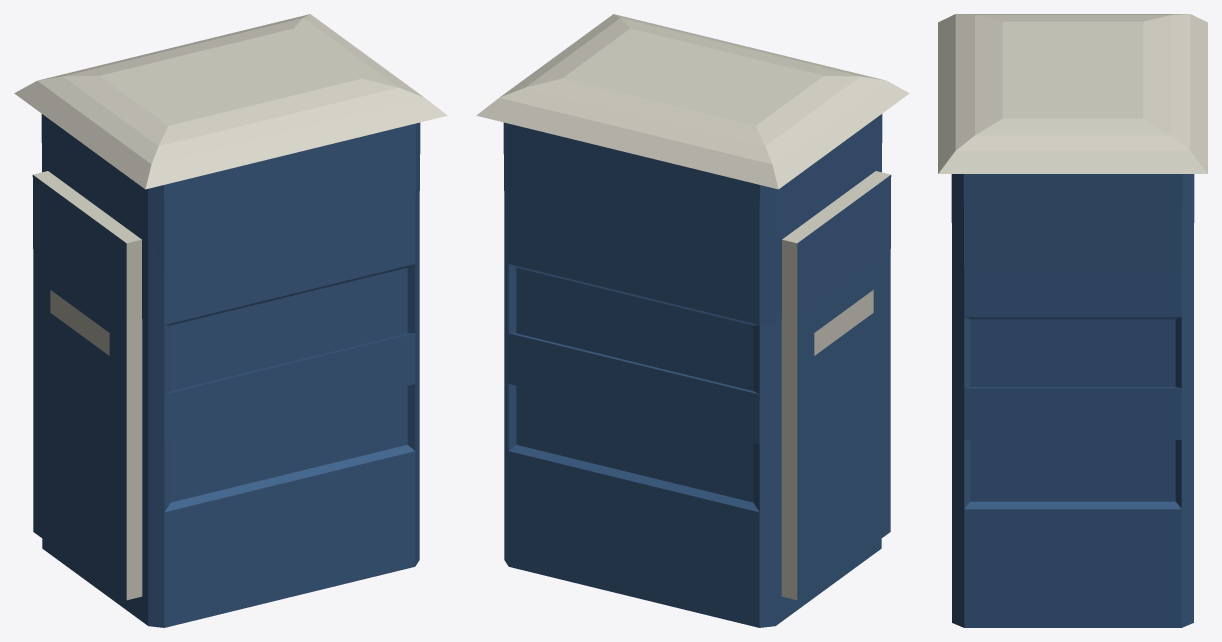
The model's file is Toilet_1.fbx.
3 views of the same model, side by side, from view 1: azimuth 30°, elevation 25°; view 2: azimuth 150°, elevation 25°; view 3: azimuth 270°, elevation 25° (orthographic). The views are drawn at different scales.
Parts seen in each view (by area): view 1: Cube, Cube.001; view 2: Cube, Cube.001; view 3: Cube.
Boxes of the visible parts, bbox=[...] form: Cube: bbox=[14, 14, 447, 627]; Cube.001: bbox=[32, 171, 142, 600]; Cube: bbox=[476, 14, 909, 627]; Cube.001: bbox=[781, 171, 891, 600]; Cube: bbox=[938, 14, 1207, 627].
Size of the model in its own units: 223 by 336 by 168.
Materials: 1 (1 with a texture image).
